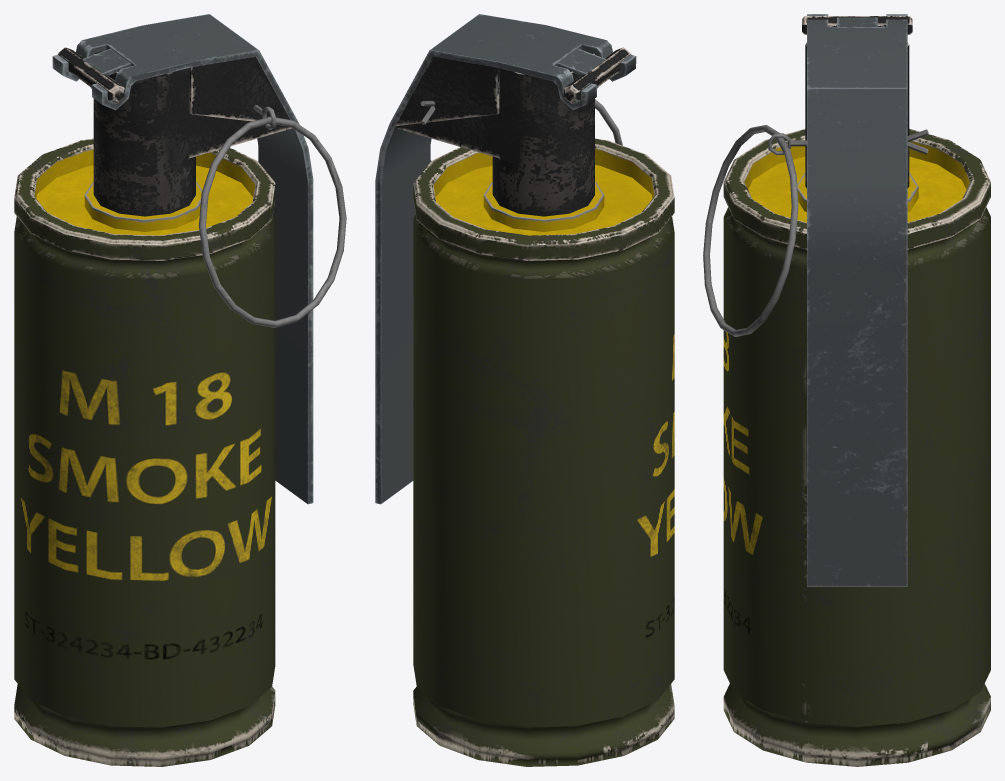
The model's file is field_kit_smoke.glb.
The picture shows the model from 3 angles, left to right: view 1: azimuth 30°, elevation 25°; view 2: azimuth 150°, elevation 25°; view 3: azimuth 270°, elevation 25°; orthographic projection.
Parts seen in each view (by area): view 1: Granade; view 2: Granade; view 3: Granade.
Part boxes in pixels (x1,y1,x2,y2): Granade: (14, 14, 346, 766); Granade: (375, 14, 674, 766); Granade: (703, 14, 990, 766).
Bounding box in the file's own units: 0.0307 × 0.0705 × 0.0274.
Materials: 1 (1 with a texture image).
